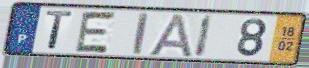8: (236, 18, 269, 59)
A: (145, 12, 194, 59)
E: (72, 10, 119, 55)
I: (193, 13, 215, 59), (132, 11, 151, 57)
T: (45, 9, 75, 52)
